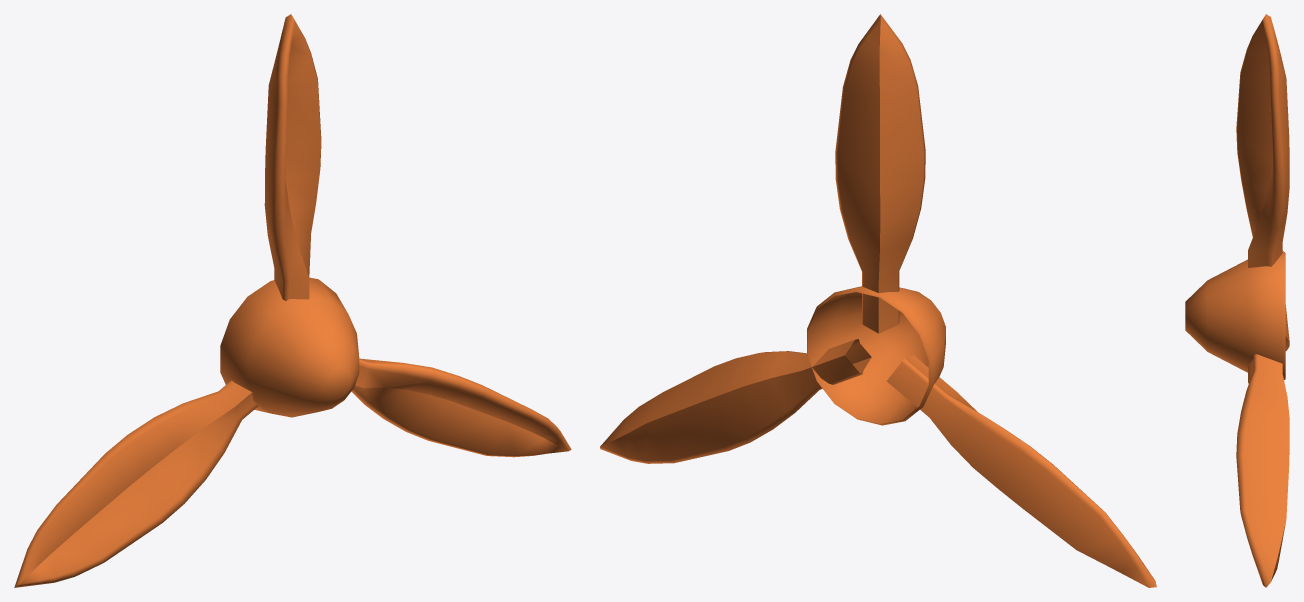
Rendered from windmill_propeller.glb.
3 views of the same model, side by side, from view 1: azimuth 30°, elevation 25°; view 2: azimuth 150°, elevation 25°; view 3: azimuth 270°, elevation 25° (orthographic). The views are drawn at different scales.
Visible parts, largest first — view 1: windmill_a.002; view 2: windmill_a.002; view 3: windmill_a.002.
Part boxes in pixels (x1,y1,x2,y2): windmill_a.002: (14, 14, 571, 587); windmill_a.002: (600, 14, 1156, 587); windmill_a.002: (1185, 14, 1289, 587).
Bounding box in the file's own units: 5.87 × 5.1 × 1.07.
